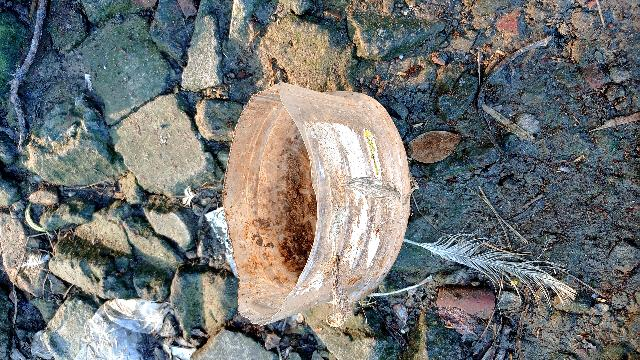bottle: (259, 81, 411, 328)
